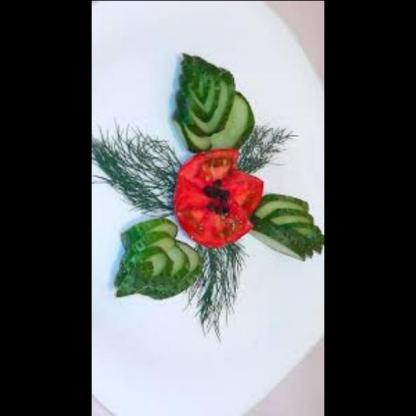cucumber: (169, 57, 263, 154), (108, 213, 201, 302), (247, 183, 325, 266)
tomato: (167, 143, 264, 250)
